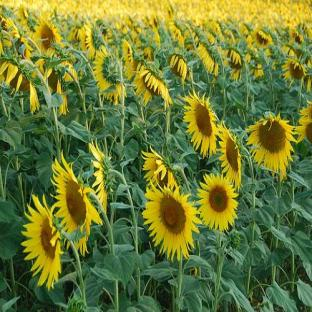sunflower: (142, 187, 202, 298), (51, 153, 103, 257), (20, 195, 62, 291)
